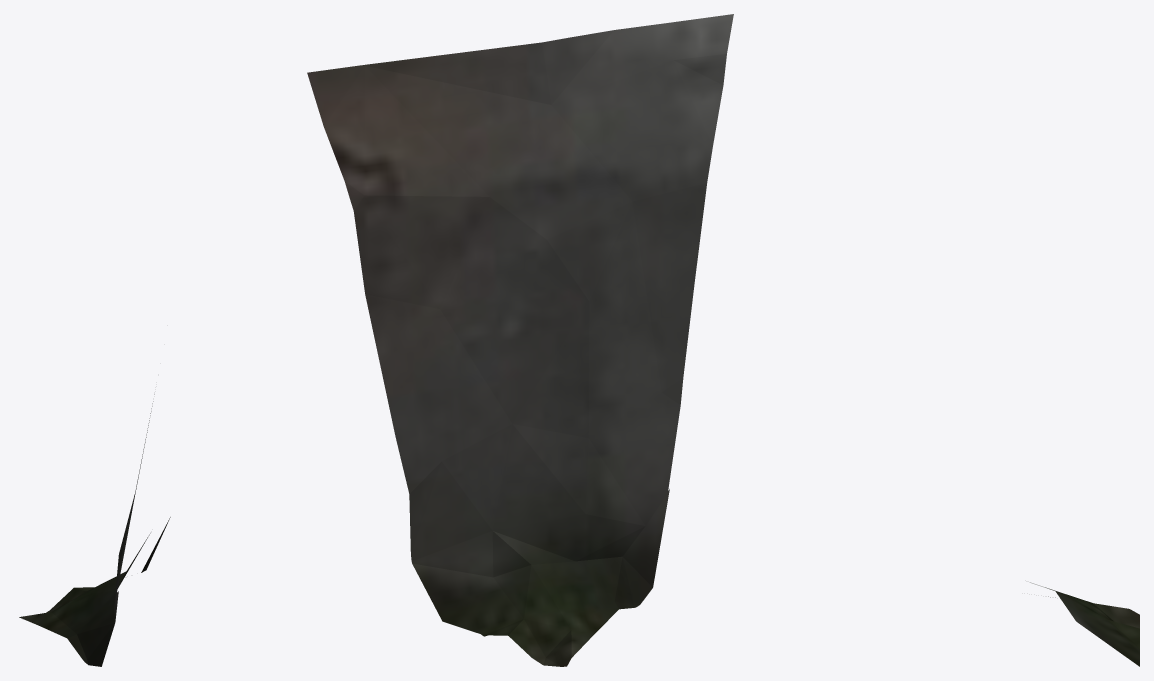
3 renders of one model, left to right at view 1: azimuth 30°, elevation 25°; view 2: azimuth 150°, elevation 25°; view 3: azimuth 270°, elevation 25°, orthographic. The views are drawn at different scales.
Size of the model in its own units: 0.3516 by 0.6916 by 0.3909.
1 material, 1 textured.
